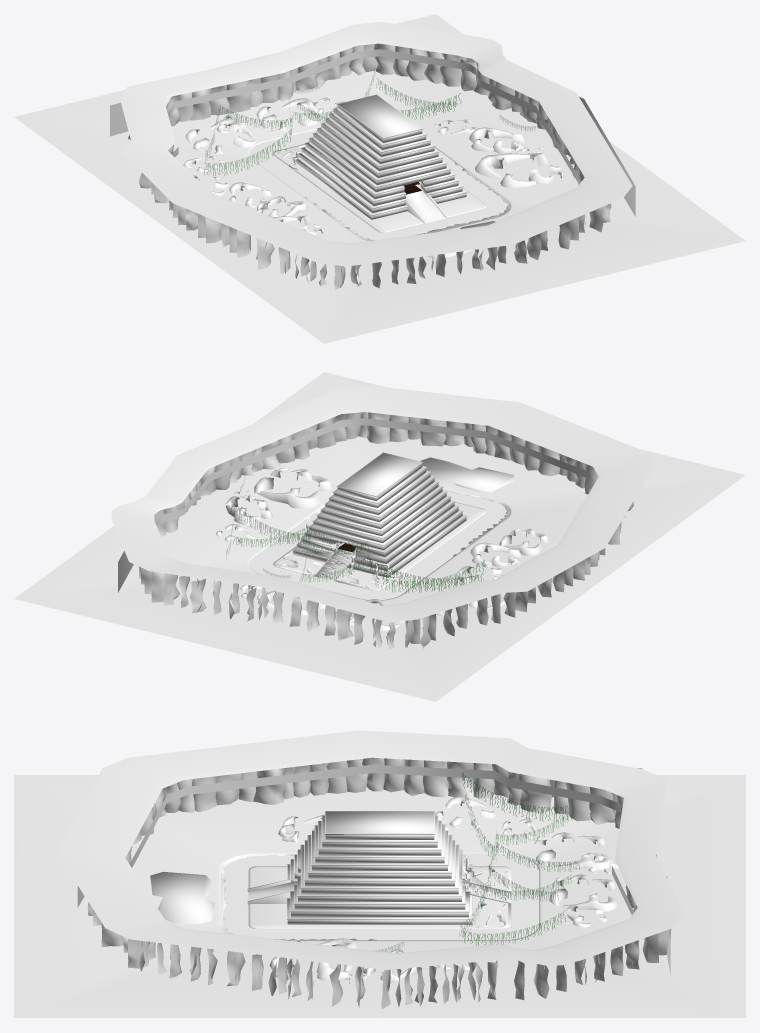
Rendered from temple_track.glb.
The picture shows the model from 3 angles, top to bottom: view 1: azimuth 30°, elevation 25°; view 2: azimuth 150°, elevation 25°; view 3: azimuth 270°, elevation 25°; orthographic projection. The views are drawn at different scales.
Parts seen in each view (by area): view 1: stk_generic_grassB.png__, stktex_generic_rockA.png__, stktex_generic_aztekWall_a.png__, stktex_generic_WoodB.png__, stktex_generic_concreteA.png__, stk_generic_dirtRoad_a.png__, stktex_jungleLiana_a.png__, jungleVines_a.png__, stktex_generic_waterConcreteA.png__; view 2: stk_generic_grassB.png__, stktex_generic_rockA.png__, stktex_generic_aztekWall_a.png__, stktex_generic_WoodB.png__, stktex_generic_concreteA.png__, stk_generic_dirtRoad_a.png__, stktex_jungleLiana_a.png__, jungleVines_a.png__, stktex_generic_waterConcreteA.png__, stktex_generic_WoodA.png__; view 3: stk_generic_grassB.png__, stktex_generic_rockA.png__, stktex_generic_aztekWall_a.png__, stktex_generic_concreteA.png__, stk_generic_dirtRoad_a.png__, stktex_generic_WoodB.png__, stktex_jungleLiana_a.png__, jungleVines_a.png__, stktex_generic_waterConcreteA.png__, stktex_generic_WoodA.png__.
Boxes of the visible parts, x1=… form: stk_generic_grassB.png__: x1=14, y1=14, x2=745, y2=343; stktex_generic_rockA.png__: x1=110, y1=43, x2=635, y2=289; stktex_generic_aztekWall_a.png__: x1=293, y1=94, x2=466, y2=219; stktex_generic_WoodB.png__: x1=183, y1=97, x2=563, y2=235; stktex_generic_concreteA.png__: x1=292, y1=94, x2=511, y2=258; stk_generic_dirtRoad_a.png__: x1=249, y1=130, x2=508, y2=240; stktex_jungleLiana_a.png__: x1=169, y1=49, x2=581, y2=184; jungleVines_a.png__: x1=204, y1=71, x2=535, y2=175; stktex_generic_waterConcreteA.png__: x1=248, y1=128, x2=455, y2=198; stk_generic_grassB.png__: x1=14, y1=372, x2=745, y2=701; stktex_generic_rockA.png__: x1=118, y1=412, x2=633, y2=649; stktex_generic_aztekWall_a.png__: x1=293, y1=452, x2=466, y2=577; stktex_generic_WoodB.png__: x1=216, y1=467, x2=549, y2=630; stktex_generic_concreteA.png__: x1=292, y1=452, x2=514, y2=573; stk_generic_dirtRoad_a.png__: x1=249, y1=490, x2=507, y2=599; stktex_jungleLiana_a.png__: x1=157, y1=418, x2=594, y2=525; jungleVines_a.png__: x1=226, y1=475, x2=485, y2=593; stktex_generic_waterConcreteA.png__: x1=248, y1=519, x2=455, y2=600; stktex_generic_WoodA.png__: x1=314, y1=549, x2=352, y2=581; stk_generic_grassB.png__: x1=14, y1=730, x2=745, y2=1017; stktex_generic_rockA.png__: x1=77, y1=757, x2=671, y2=1018; stktex_generic_aztekWall_a.png__: x1=287, y1=811, x2=472, y2=924; stktex_generic_concreteA.png__: x1=150, y1=811, x2=472, y2=941; stk_generic_dirtRoad_a.png__: x1=222, y1=855, x2=538, y2=940; stktex_generic_WoodB.png__: x1=269, y1=796, x2=618, y2=984; stktex_jungleLiana_a.png__: x1=130, y1=764, x2=633, y2=914; jungleVines_a.png__: x1=376, y1=773, x2=579, y2=951; stktex_generic_waterConcreteA.png__: x1=380, y1=853, x2=541, y2=941; stktex_generic_WoodA.png__: x1=462, y1=880, x2=511, y2=903.
Size of the model in its own units: 630 by 118 by 792.
Materials: 13 (2 with a texture image).
